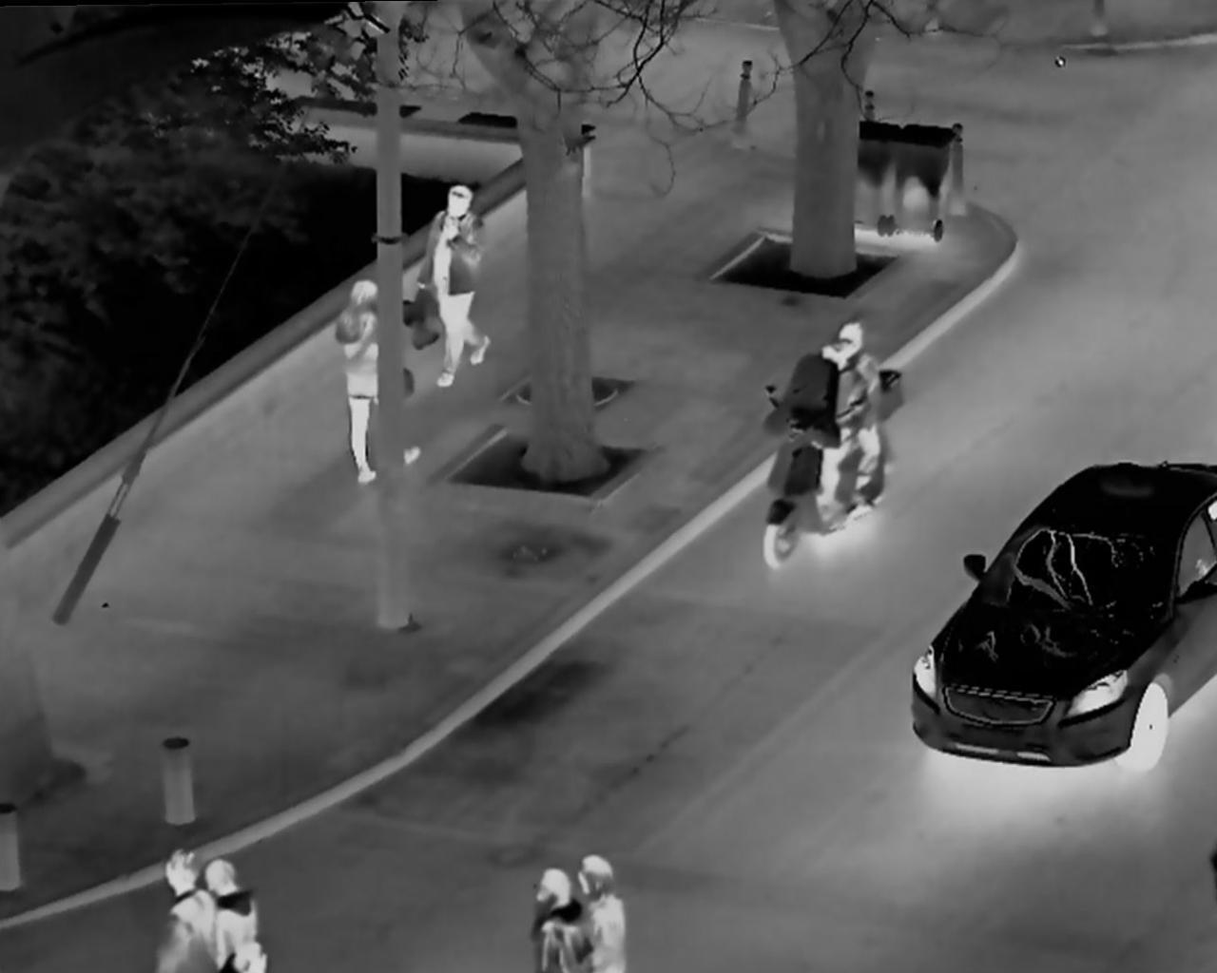person: (327, 272, 413, 484), (425, 170, 497, 389), (791, 336, 861, 536), (816, 319, 885, 513), (570, 849, 658, 973), (195, 839, 275, 973), (516, 838, 585, 973), (142, 844, 212, 973)
